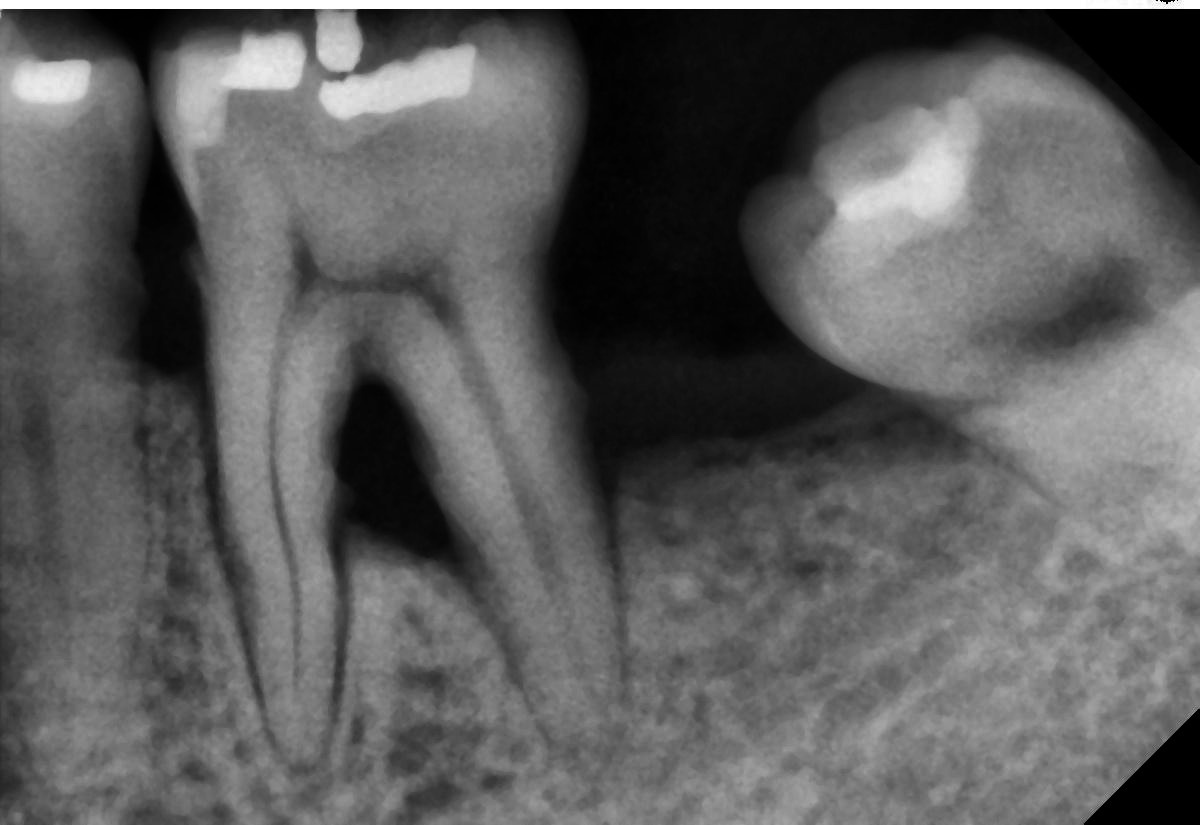Individual Tooth: (155, 12, 619, 765), (741, 40, 1200, 557), (0, 20, 148, 799)
